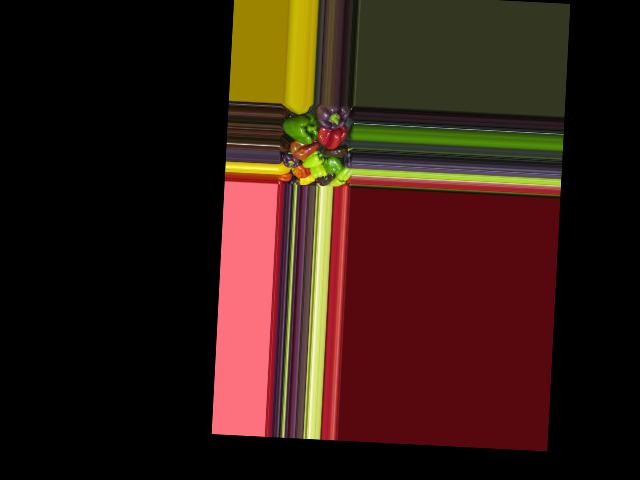bell_pepper: (280, 152, 301, 171)
